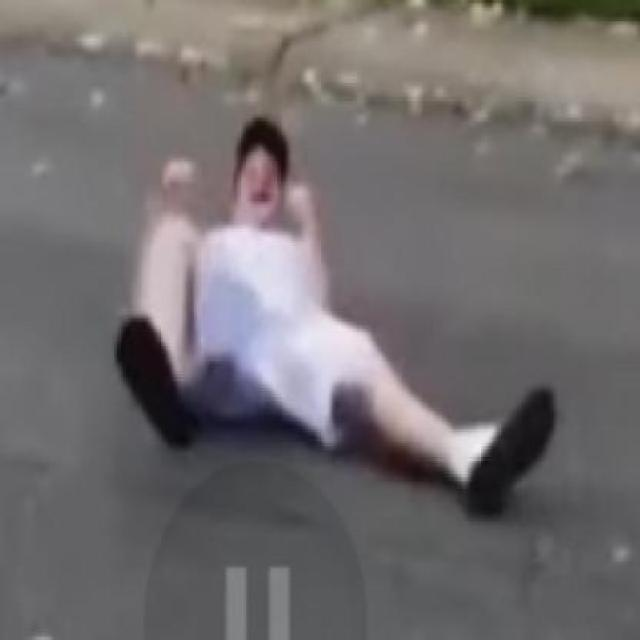fall: (119, 112, 562, 520)
